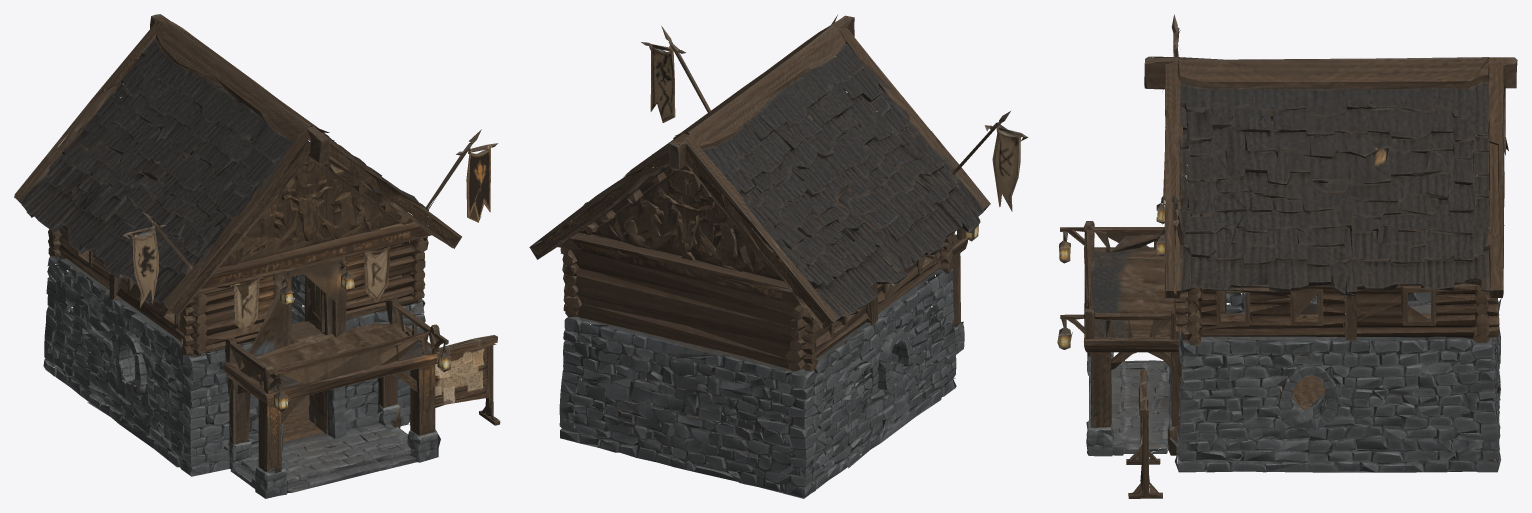
File: auction_hall.glb
3 renders of one model, left to right at view 1: azimuth 30°, elevation 25°; view 2: azimuth 150°, elevation 25°; view 3: azimuth 270°, elevation 25°, orthographic. The views are drawn at different scales.
Parts seen in each view (by area): view 1: Mesh_0; view 2: Mesh_0; view 3: Mesh_0.
Boxes of the visible parts, bbox=[...] form: Mesh_0: bbox=[14, 14, 500, 498]; Mesh_0: bbox=[529, 15, 1028, 498]; Mesh_0: bbox=[1057, 14, 1517, 498].
Bounding box in the file's own units: 9.68 × 8 × 9.4.
Materials: 1 (1 with a texture image).
